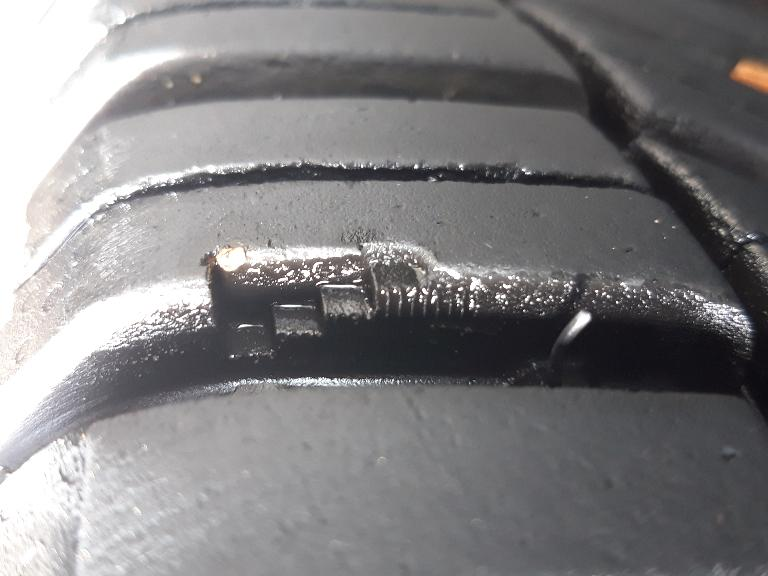temoin:80: (196, 237, 475, 380)
